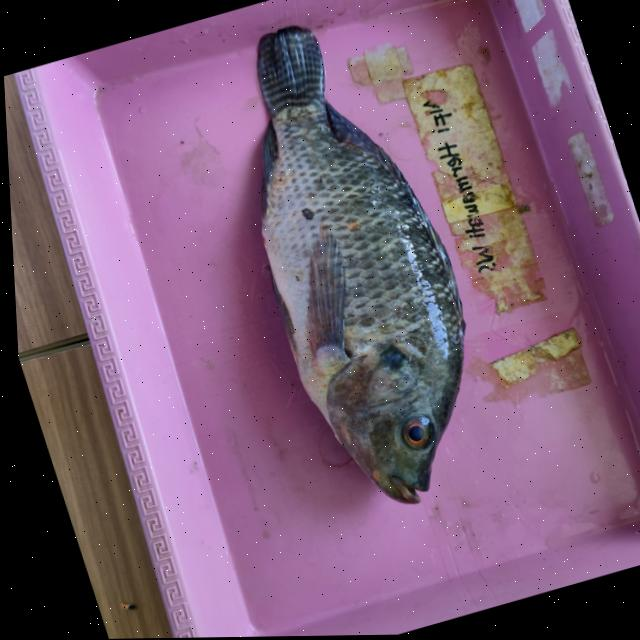Fresh: (213, 47, 473, 435), (365, 402, 463, 474)
